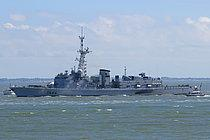MIL_Ship: (10, 45, 207, 98)
